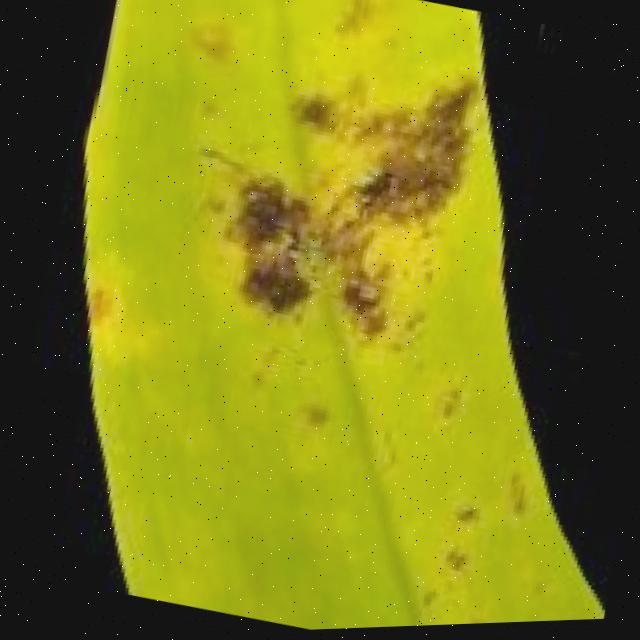mite: (335, 7, 640, 624), (405, 488, 517, 629), (230, 249, 311, 319), (278, 386, 340, 443), (419, 374, 468, 431), (426, 536, 469, 582), (436, 491, 482, 534), (291, 399, 327, 430), (431, 544, 464, 575), (444, 499, 473, 529), (449, 610, 495, 628), (457, 618, 487, 627)
sunburn: (163, 28, 489, 364)
